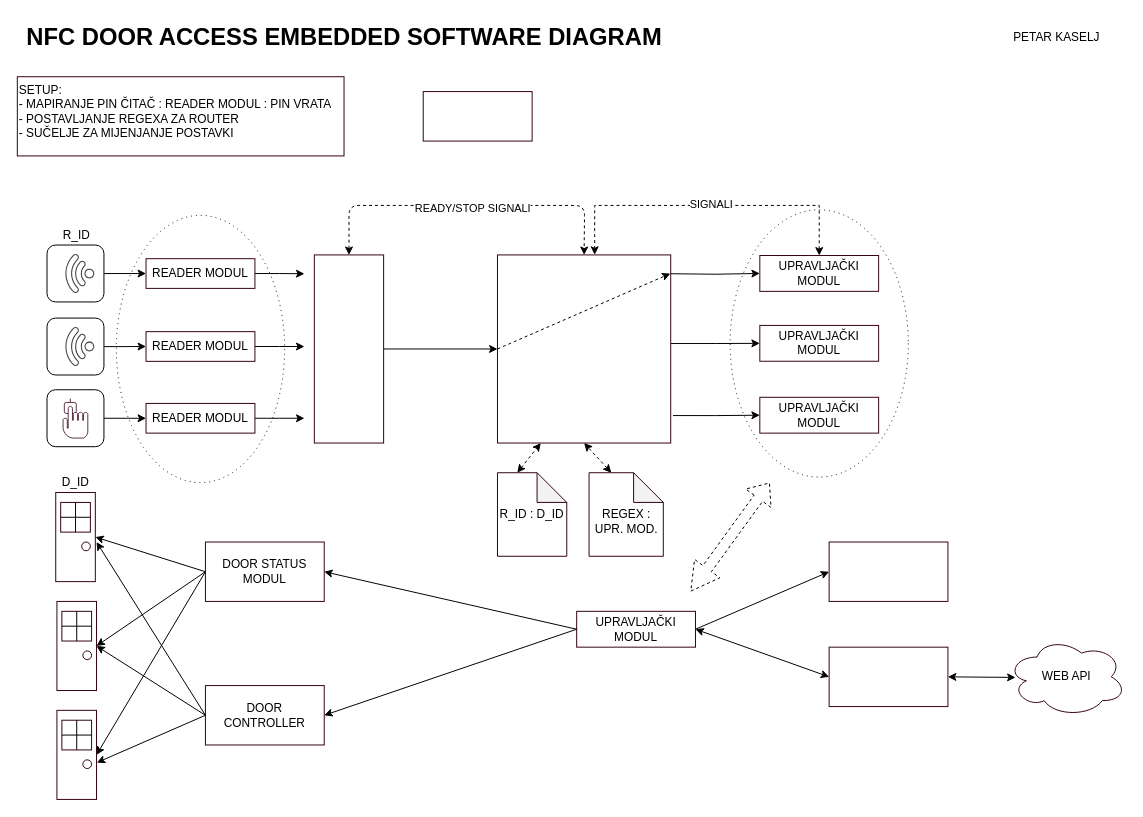
This 1143x817 diagram has some shape labels left out. Each missing label, with the box of its shape:
BUFFER: (313, 254, 384, 443)
MAIN: - FORK & EXEC: (422, 91, 532, 141)
POMOĆNI MODULI (LCD, ERROR_LOGGING, ...): (828, 541, 948, 601)
ROUTER - REGEX pr. \*[0-9]{4} --- PIN #[0-9]{4} --- Naredba: (496, 254, 671, 443)
TCP MODULI (VALIDATE, POST_NEW, DELETEM ...): (828, 646, 948, 707)
